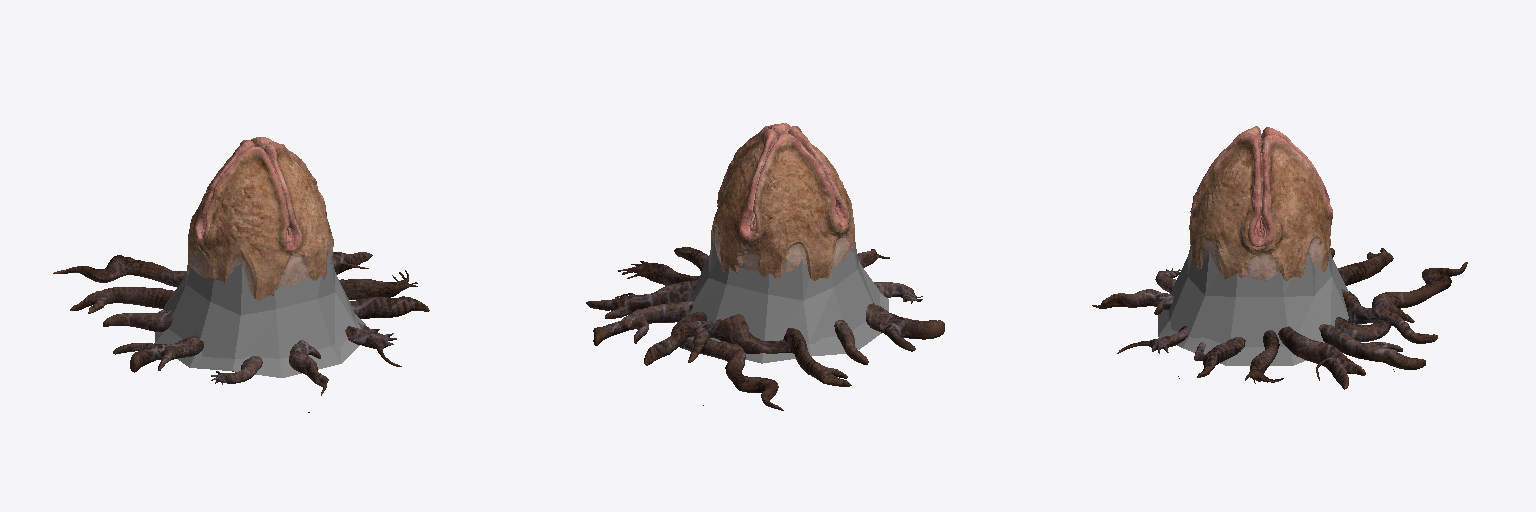
3 renders of one model, left to right at view 1: azimuth 30°, elevation 25°; view 2: azimuth 150°, elevation 25°; view 3: azimuth 270°, elevation 25°, orthographic.
Visible parts, largest first — view 1: Group59158_Mesh.013, Group35463_Mesh.005, Group64277_Mesh.001, Group13752_Mesh, Group57259_Mesh.012, Group44234_Mesh.003, Group44292_Mesh.004; view 2: Group35463_Mesh.005, Group59158_Mesh.013, Group44234_Mesh.003, Group12847_Mesh.002, Group64277_Mesh.001, Group57259_Mesh.012, Group44292_Mesh.004; view 3: Group35463_Mesh.005, Group59158_Mesh.013, Group12847_Mesh.002, Group13752_Mesh, Group57259_Mesh.012, Group44292_Mesh.004.
Boxes of the visible parts, box(x1,y1,x2,y2) form: Group59158_Mesh.013: box(164, 250, 357, 359); Group35463_Mesh.005: box(54, 252, 429, 386); Group64277_Mesh.001: box(196, 147, 293, 300); Group13752_Mesh: box(264, 141, 333, 284); Group57259_Mesh.012: box(155, 309, 365, 377); Group44234_Mesh.003: box(188, 140, 254, 273); Group44292_Mesh.004: box(53, 255, 428, 395); Group35463_Mesh.005: box(586, 247, 944, 410); Group59158_Mesh.013: box(690, 236, 879, 343); Group44234_Mesh.003: box(748, 133, 843, 280); Group12847_Mesh.002: box(711, 129, 777, 272); Group64277_Mesh.001: box(788, 126, 854, 262); Group57259_Mesh.012: box(677, 293, 888, 363); Group44292_Mesh.004: box(588, 254, 943, 410); Group35463_Mesh.005: box(1099, 248, 1467, 387); Group59158_Mesh.013: box(1169, 246, 1348, 346); Group12847_Mesh.002: box(1257, 134, 1332, 280); Group13752_Mesh: box(1189, 134, 1261, 279); Group57259_Mesh.012: box(1158, 309, 1361, 365); Group44292_Mesh.004: box(1092, 273, 1461, 389).
Size of the model in its own units: 1.13 by 0.8768 by 1.23.
4 materials, 2 textured.